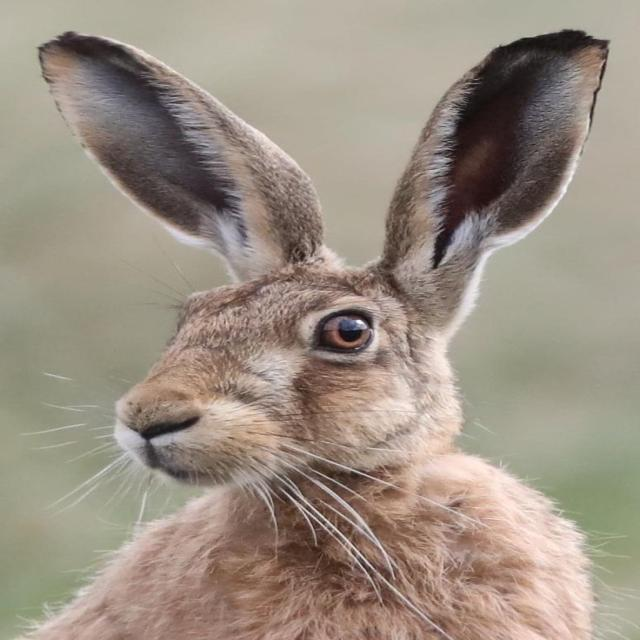Hare: (28, 28, 616, 640)
